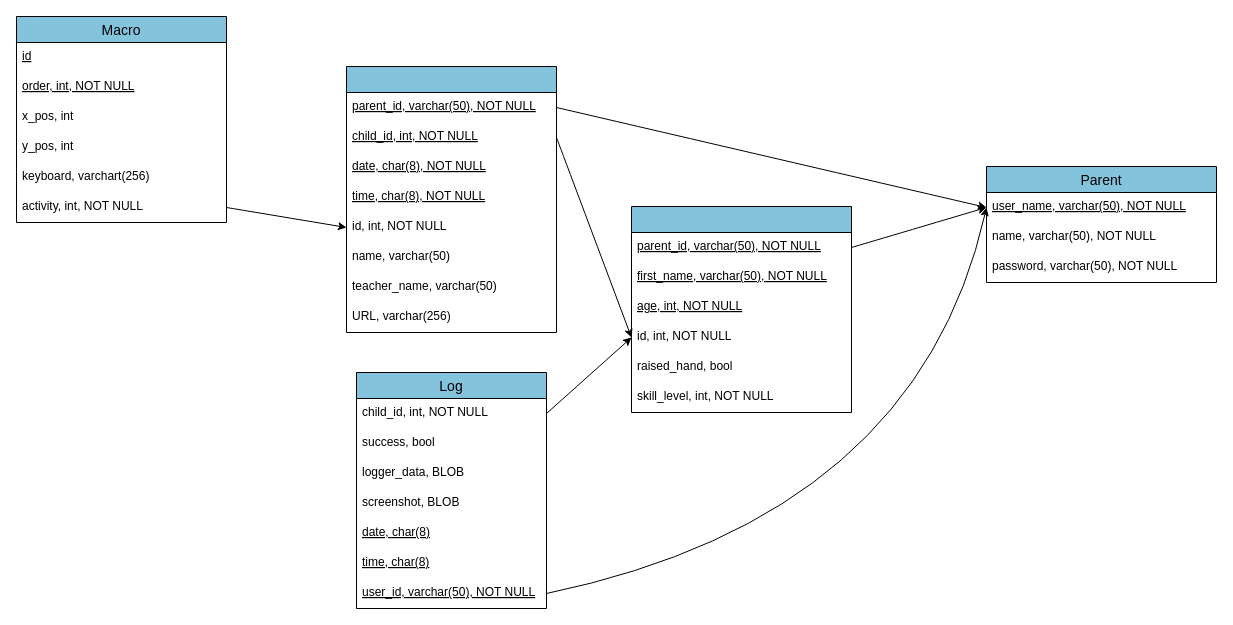
Some shapes in this 1233 by 625 pixel diagram are drawn without their labels. Each missing label, with the box of its shape:
Activity: (346, 66, 556, 332)
Child: (630, 206, 852, 412)
